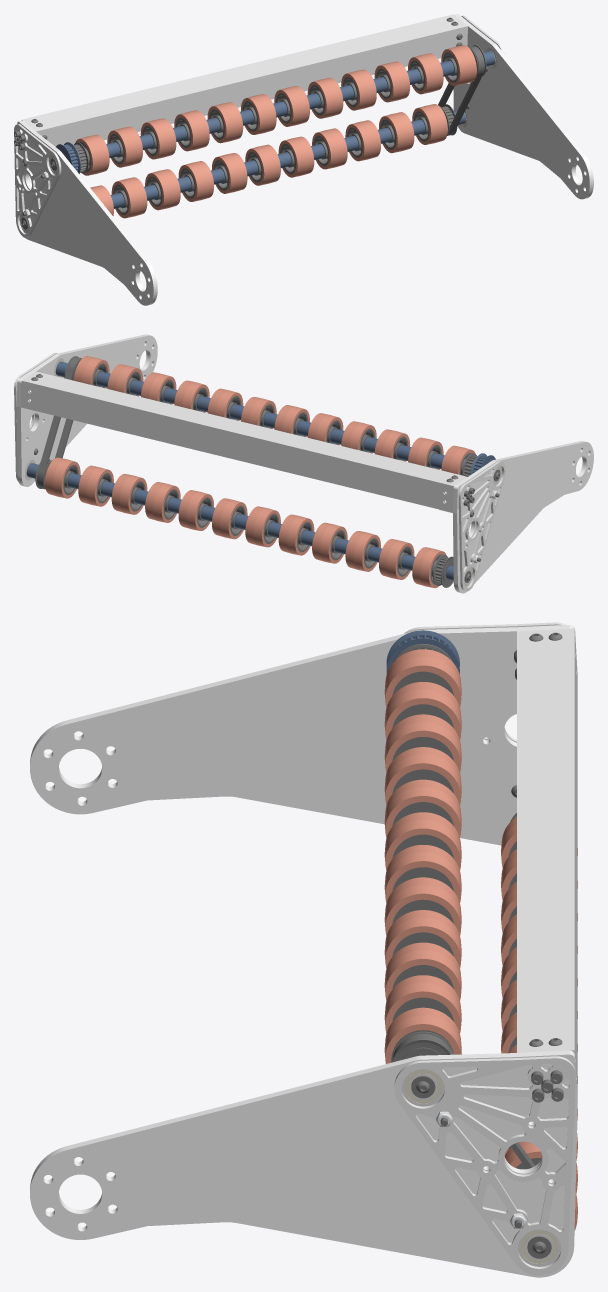
3 views of the same model, one above another, from view 1: azimuth 30°, elevation 25°; view 2: azimuth 150°, elevation 25°; view 3: azimuth 270°, elevation 25° (orthographic). The views are drawn at different scales.
Visible parts, largest first — view 1: 2" Stealth Wheel (40A, 1/2" Hex Bore) (×22), W26-IN-T001, W26-IN-P001, W26-IN-P001-Mirrored, W26-IN-P006, 80T HTD Belt; view 2: 2" Stealth Wheel (40A, 1/2" Hex Bore) (×24), W26-IN-T001, W26-IN-P001-Mirrored, W26-IN-P001, W26-IN-P006 (×2), 80T HTD Belt, 24t Aluminum Pulley (HTD 5mm, 9mm Wide, 1/2" Hex Bore)-Mirro; view 3: W26-IN-P001, W26-IN-P001-Mirrored, 2" Stealth Wheel (40A, 1/2" Hex Bore) (×12), W26-IN-T001, W26-IN-P006, 1/2" Rounded Hex (13.75mm) ID Bearing (1.125" OD, 0.313" WD, (×2), 28t Custom HTD 5mm Pulley (0.375" Wide, 1/2" Hex Bore w/ WCP, 24t Aluminum Pulley (HTD 5mm, 9mm Wide, 1/2" Hex Bore).
Boxes of the visible parts, x1,y1,x2,y2 form: 2" Stealth Wheel (40A, 1/2" Hex Bore) (×22): (75,45,476,218); W26-IN-T001: (21,14,467,146); W26-IN-P001: (453,14,593,199); W26-IN-P001-Mirrored: (17,120,157,305); W26-IN-P006: (14,124,61,237); 80T HTD Belt: (438,46,484,135); 2" Stealth Wheel (40A, 1/2" Hex Bore) (×24): (45,356,475,588); W26-IN-T001: (21,371,467,512); W26-IN-P001-Mirrored: (453,441,593,593); W26-IN-P001: (16,334,157,486); W26-IN-P006 (×2): (14,353,505,591); 80T HTD Belt: (37,357,81,489); 24t Aluminum Pulley (HTD 5mm, 9mm Wide, 1/2" Hex Bore)-Mirro: (433,554,453,587); W26-IN-P001: (30,1050,577,1277); W26-IN-P001-Mirrored: (30,625,577,845); 2" Stealth Wheel (40A, 1/2" Hex Bore) (×12): (384,649,461,1063); W26-IN-T001: (517,628,577,1097); W26-IN-P006: (394,1056,575,1275); 1/2" Rounded Hex (13.75mm) ID Bearing (1.125" OD, 0.313" WD, (×2): (401,1069,561,1266); 28t Custom HTD 5mm Pulley (0.375" Wide, 1/2" Hex Bore w/ WCP: (386,630,459,673); 24t Aluminum Pulley (HTD 5mm, 9mm Wide, 1/2" Hex Bore): (391,1031,453,1062).
Size of the model in its own units: 0.6953 by 0.1672 by 0.3611.
